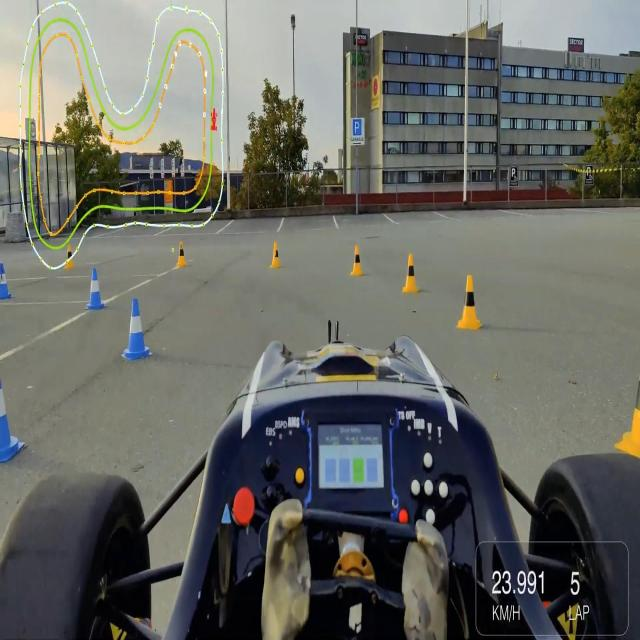blue_cone: (120, 295, 154, 367), (83, 266, 107, 316)
yellow_cone: (452, 269, 483, 333), (399, 250, 423, 294), (173, 234, 193, 274), (348, 239, 367, 281), (267, 238, 282, 268)
